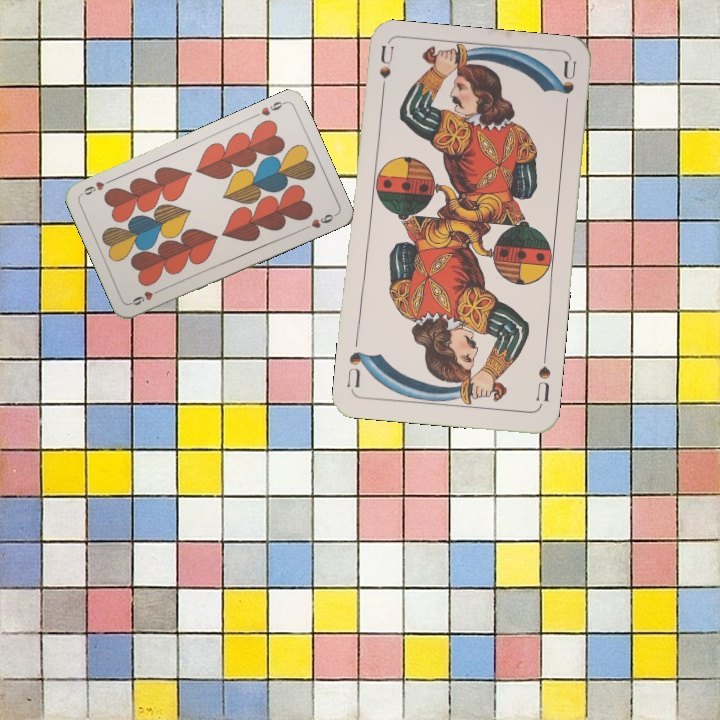H9: (126, 285, 165, 308), (250, 97, 288, 120)
SU: (375, 43, 396, 103), (532, 349, 554, 404)
